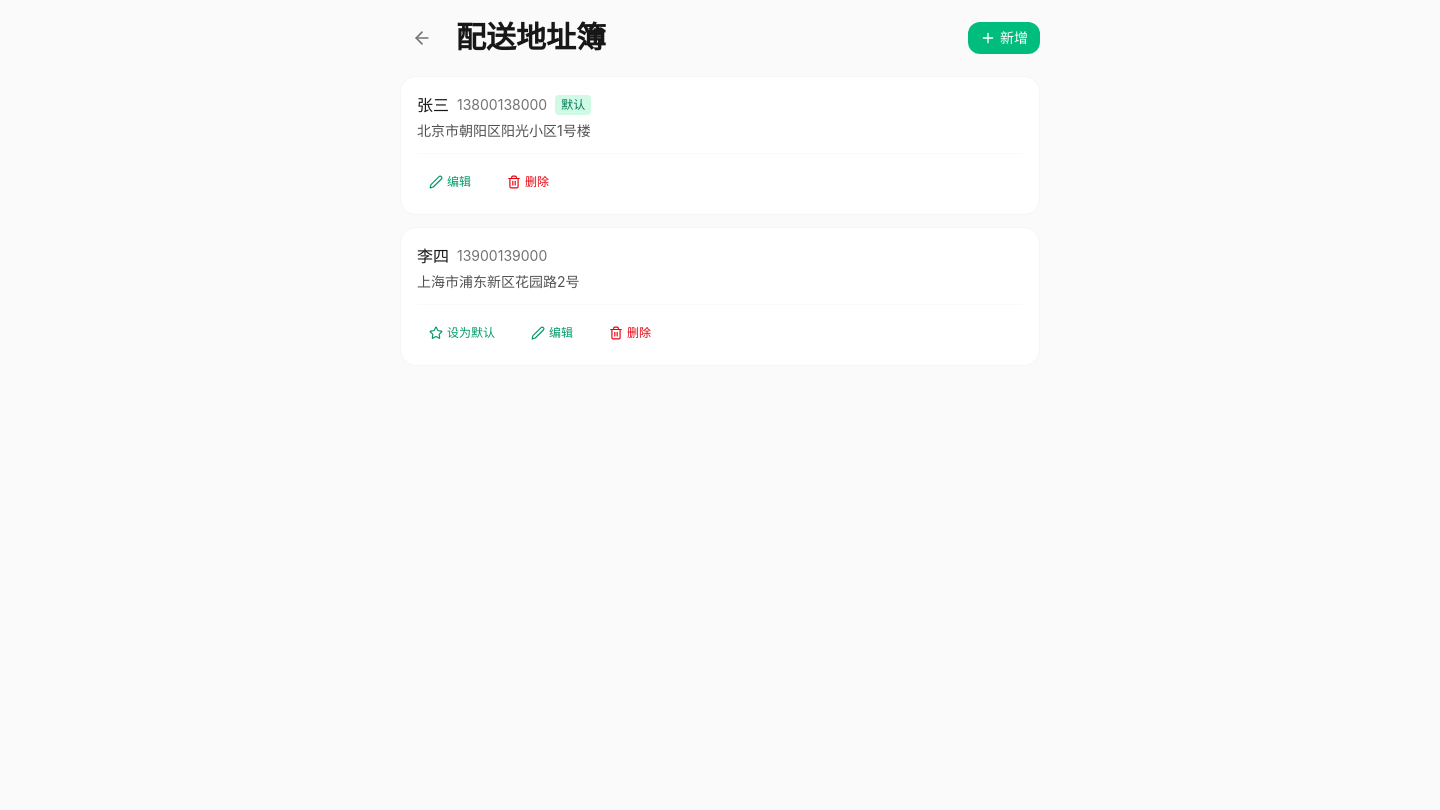
Test: AddressBook 配送地址簿 › 收件人为空时点击"保存"显示字段错误提示
Expected: the text "张三" is shown, [417,93,449,117]
Step 1. Click the button "新增" → (1004, 38), box [968,22,1040,54]
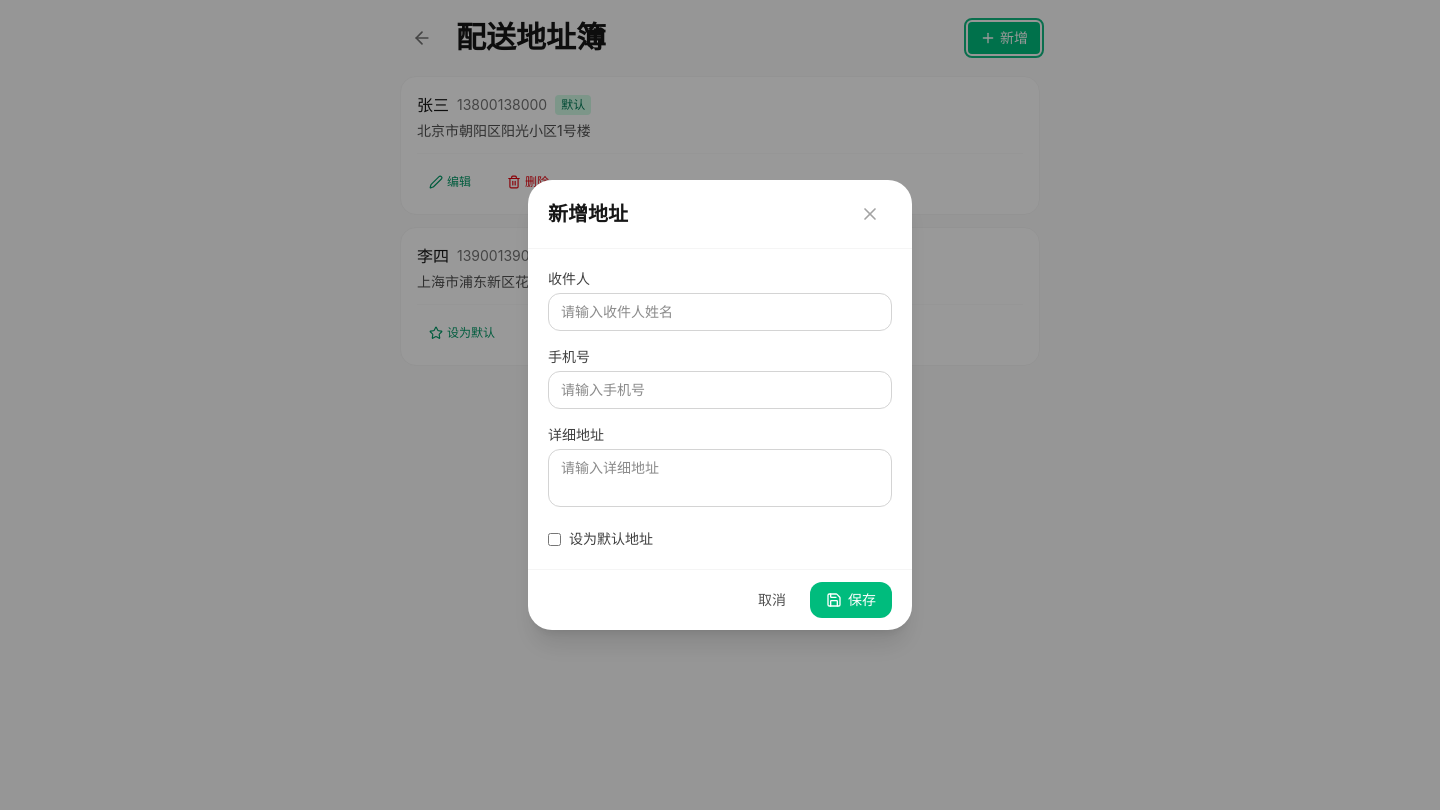
Expected: the heading "新增地址" is shown, [548,202,628,226]
不填任何字段，直接点击保存
Step 2. Click the button "保存" → (851, 600), box [810,582,892,618]
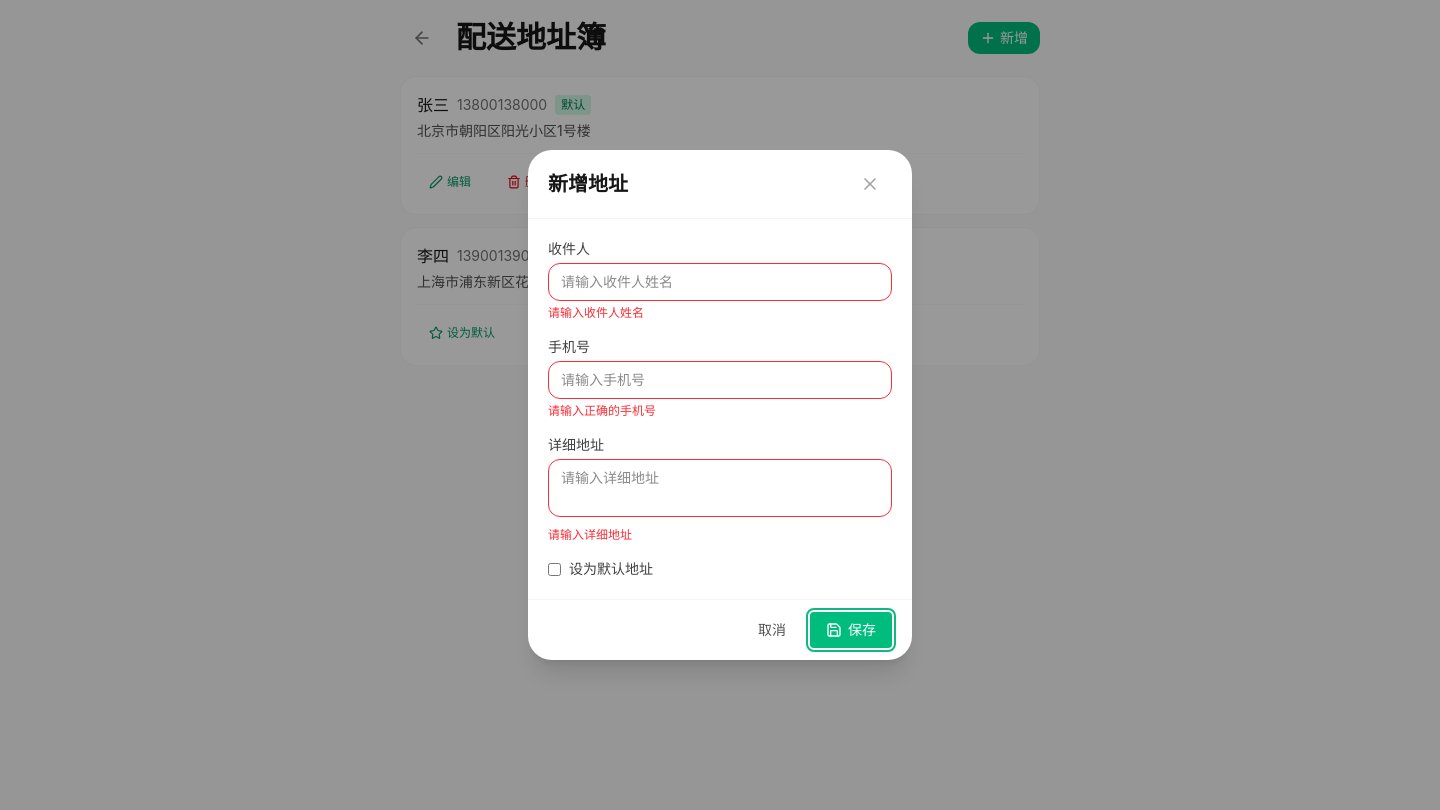
Expected: the text "请输入收件人姓名" is shown, [548,305,644,320]
